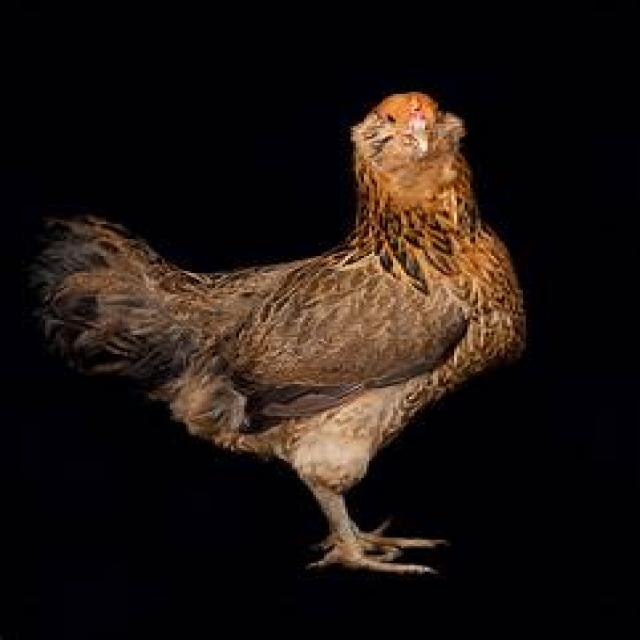hen: (24, 92, 528, 574)
